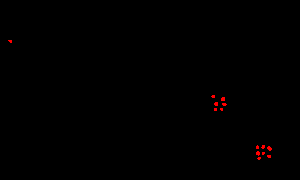Target: (267, 146, 272, 151), (256, 151, 260, 156), (221, 97, 225, 101), (214, 102, 218, 106), (261, 145, 265, 149), (222, 103, 227, 106), (8, 40, 12, 43), (211, 95, 215, 98), (256, 145, 259, 149), (267, 155, 271, 158), (257, 157, 261, 160), (214, 108, 217, 111), (220, 108, 223, 111), (262, 152, 265, 155)
